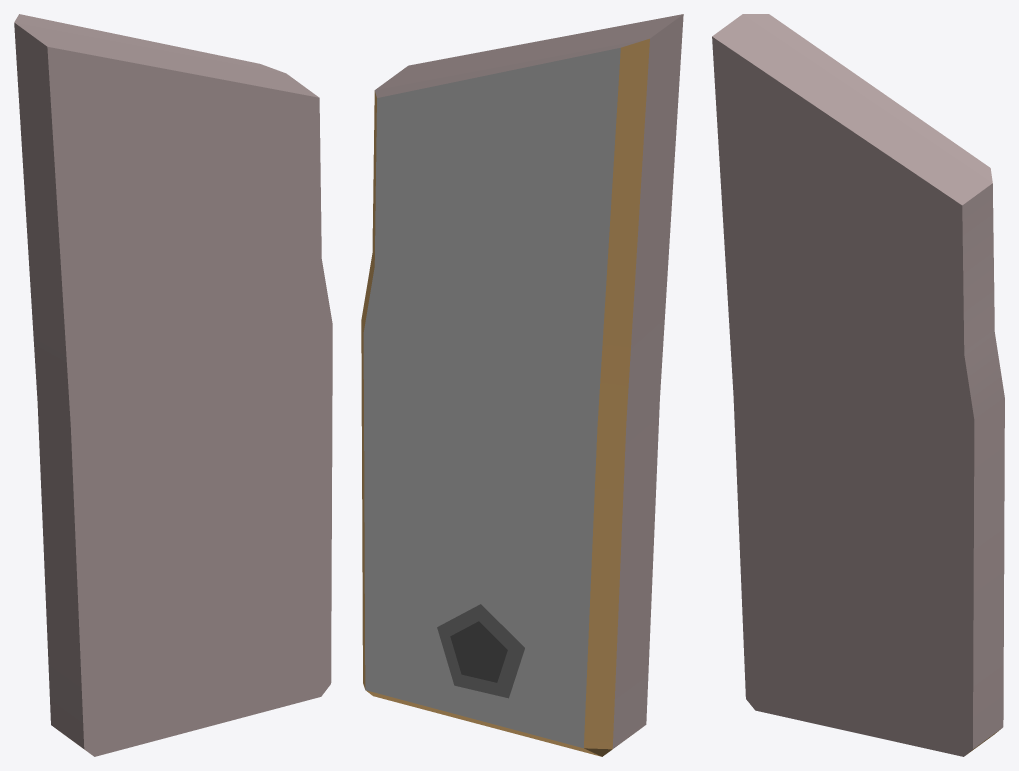
Rendered from WoodBoardH.fbx.
The picture shows the model from 3 angles, left to right: view 1: azimuth 30°, elevation 25°; view 2: azimuth 150°, elevation 25°; view 3: azimuth 330°, elevation 25°; orthographic projection. The views are drawn at different scales.
Parts seen in each view (by area): view 1: WoodBoardH; view 2: WoodBoardH; view 3: WoodBoardH.
Boxes of the visible parts, x1,y1,x2,y2 form: WoodBoardH: [14, 14, 332, 756]; WoodBoardH: [361, 14, 683, 756]; WoodBoardH: [712, 14, 1004, 756].
Bounding box in the file's own units: 54.95 × 133 × 16.01.
